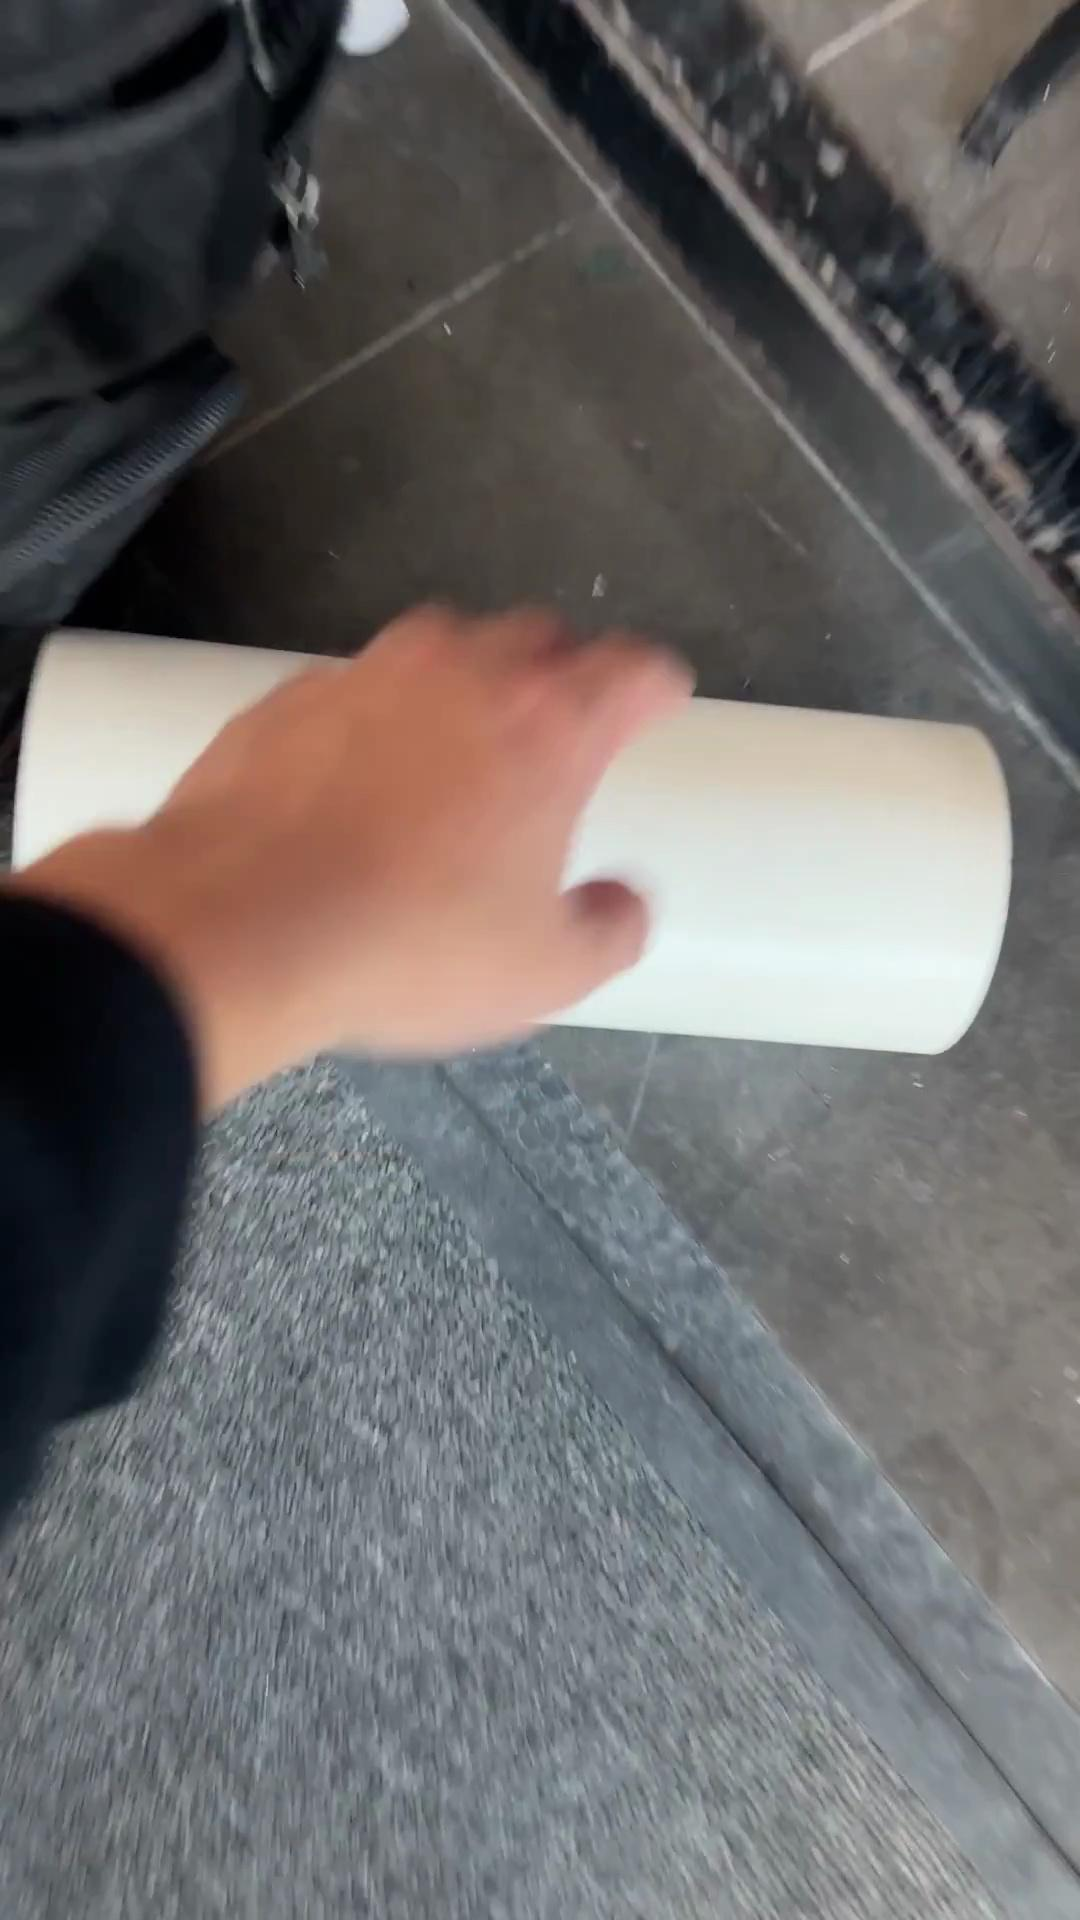CORAL: (10, 623, 1014, 1059)
